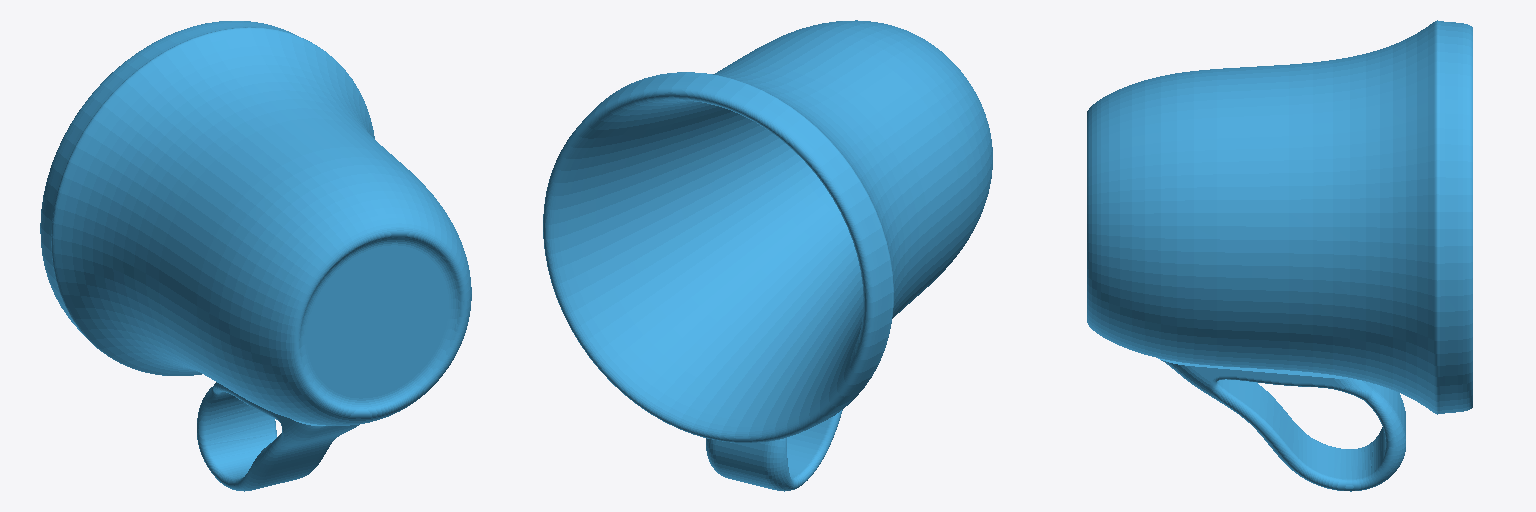
URDF robot description (linemod_template):
<?xml version="1.0" ?>
<!-- =================================================================================== -->
<!-- |    This document was autogenerated by xacro from linemod_template.xacro         | -->
<!-- |    EDITING THIS FILE BY HAND IS NOT RECOMMENDED                                 | -->
<!-- =================================================================================== -->
<!-- Revolute-Revolute Manipulator -->
<robot name="linemod_template" xmlns:xacro="http://www.ros.org/wiki/xacro">
  <!-- Space btw top of beam and the each joint -->
  <!-- ros_control plugin -->
  <gazebo>
    <plugin filename="libgazebo_ros_control.so" name="gazebo_ros_control">
      <robotNamespace>/linemod_template</robotNamespace>
      <robotSimType>gazebo_ros_control/DefaultRobotHWSim</robotSimType>
    </plugin>
  </gazebo>
  <gazebo reference="mesh_model_link">
  </gazebo>
  <!-- <xacro:include filename="$(find higa_kinect_description)/urdf/higa_kinect.xacro" /> -->
  <!-- Used for fixing robot to Gazebo 'base_link' -->
  <link name="world"/>
  <!-- <link name="camera_depth_frame"/> -->
  <!-- object -->
  <joint name="mesh_model_joint" type="floating">
    <axis xyz="0 0 0"/>
    <!-- for mugcup -->
    <origin xyz="-0.06 -0.075 -0.08" rpy="0 0 0"/>

    <!-- for origin -->
    <!-- <origin rpy="0 0 0" xyz="0 0 0"/> -->

    <parent link="world"/>
    <!-- <parent link="camera_depth_frame"/> -->
    <child link="mesh_model_link"/>
  </joint>
  <link name="mesh_model_link">
    <collision>
      <origin rpy="0 0 0" xyz="0.1 0.1 0"/>
      <geometry>
        <box size="0.1 0.1 0.1"/>
      </geometry>
    </collision>
    <visual>
      <geometry>
        <mesh filename="package://linemod_template_description/meshes/mugcup.dae"/>
      </geometry>
    </visual>
    <inertial>
      <mass value="1e-5"/>
      <origin rpy="0 0 0" xyz="0.1 0.1 0"/>
      <inertia ixx="1e-6" ixy="0" ixz="0" iyy="1e-6" iyz="0" izz="1e-6"/>
    </inertial>
  </link>
</robot>

--- Render facts (derived) ---
3 views of the same robot in one strip: view 1: azimuth 30°, elevation 25°; view 2: azimuth 150°, elevation 25°; view 3: azimuth 270°, elevation 25° (orthographic).
Model linemod_template with 2 links and 1 joints (1 floating), rooted at world, posed all joints at 0.
Links seen in each view (by area): view 1: mesh_model_link; view 2: mesh_model_link; view 3: mesh_model_link.
Boxes of the visible links, x1,y1,x2,y2 form: mesh_model_link: (40,21,471,491); mesh_model_link: (543,20,992,491); mesh_model_link: (1087,20,1472,491).
Bounding box of the posed robot: 0.1251 × 0.1228 × 0.1537 m (x, y, z).
Meshes: 1 distinct files referenced, 1 mesh visuals loaded (1 Collada DAE).
